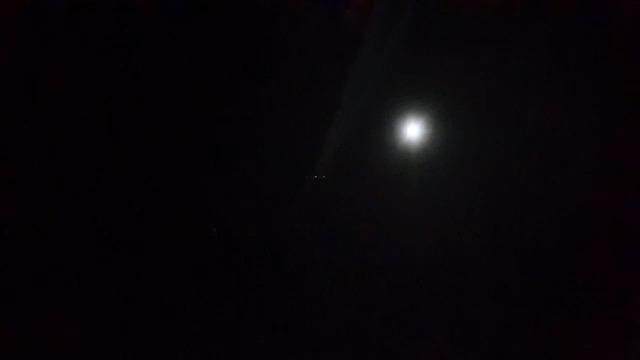Plane: (302, 122, 348, 187)
